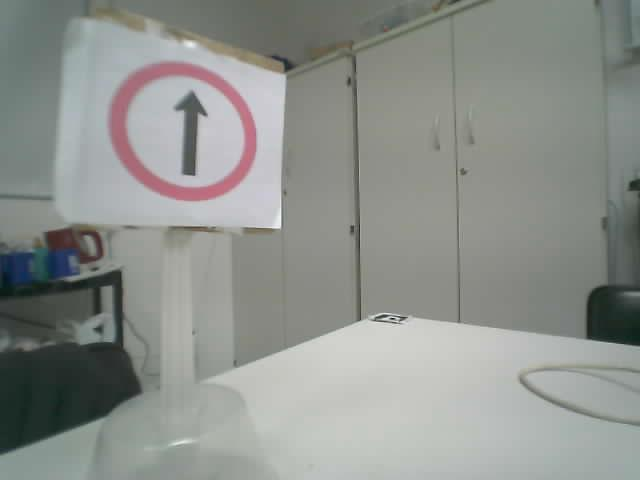R-26_frente: (108, 60, 255, 202)
